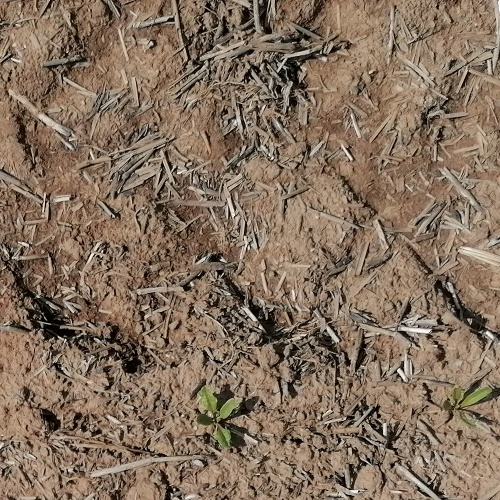beet: (192, 388, 239, 449), (450, 388, 493, 424)
